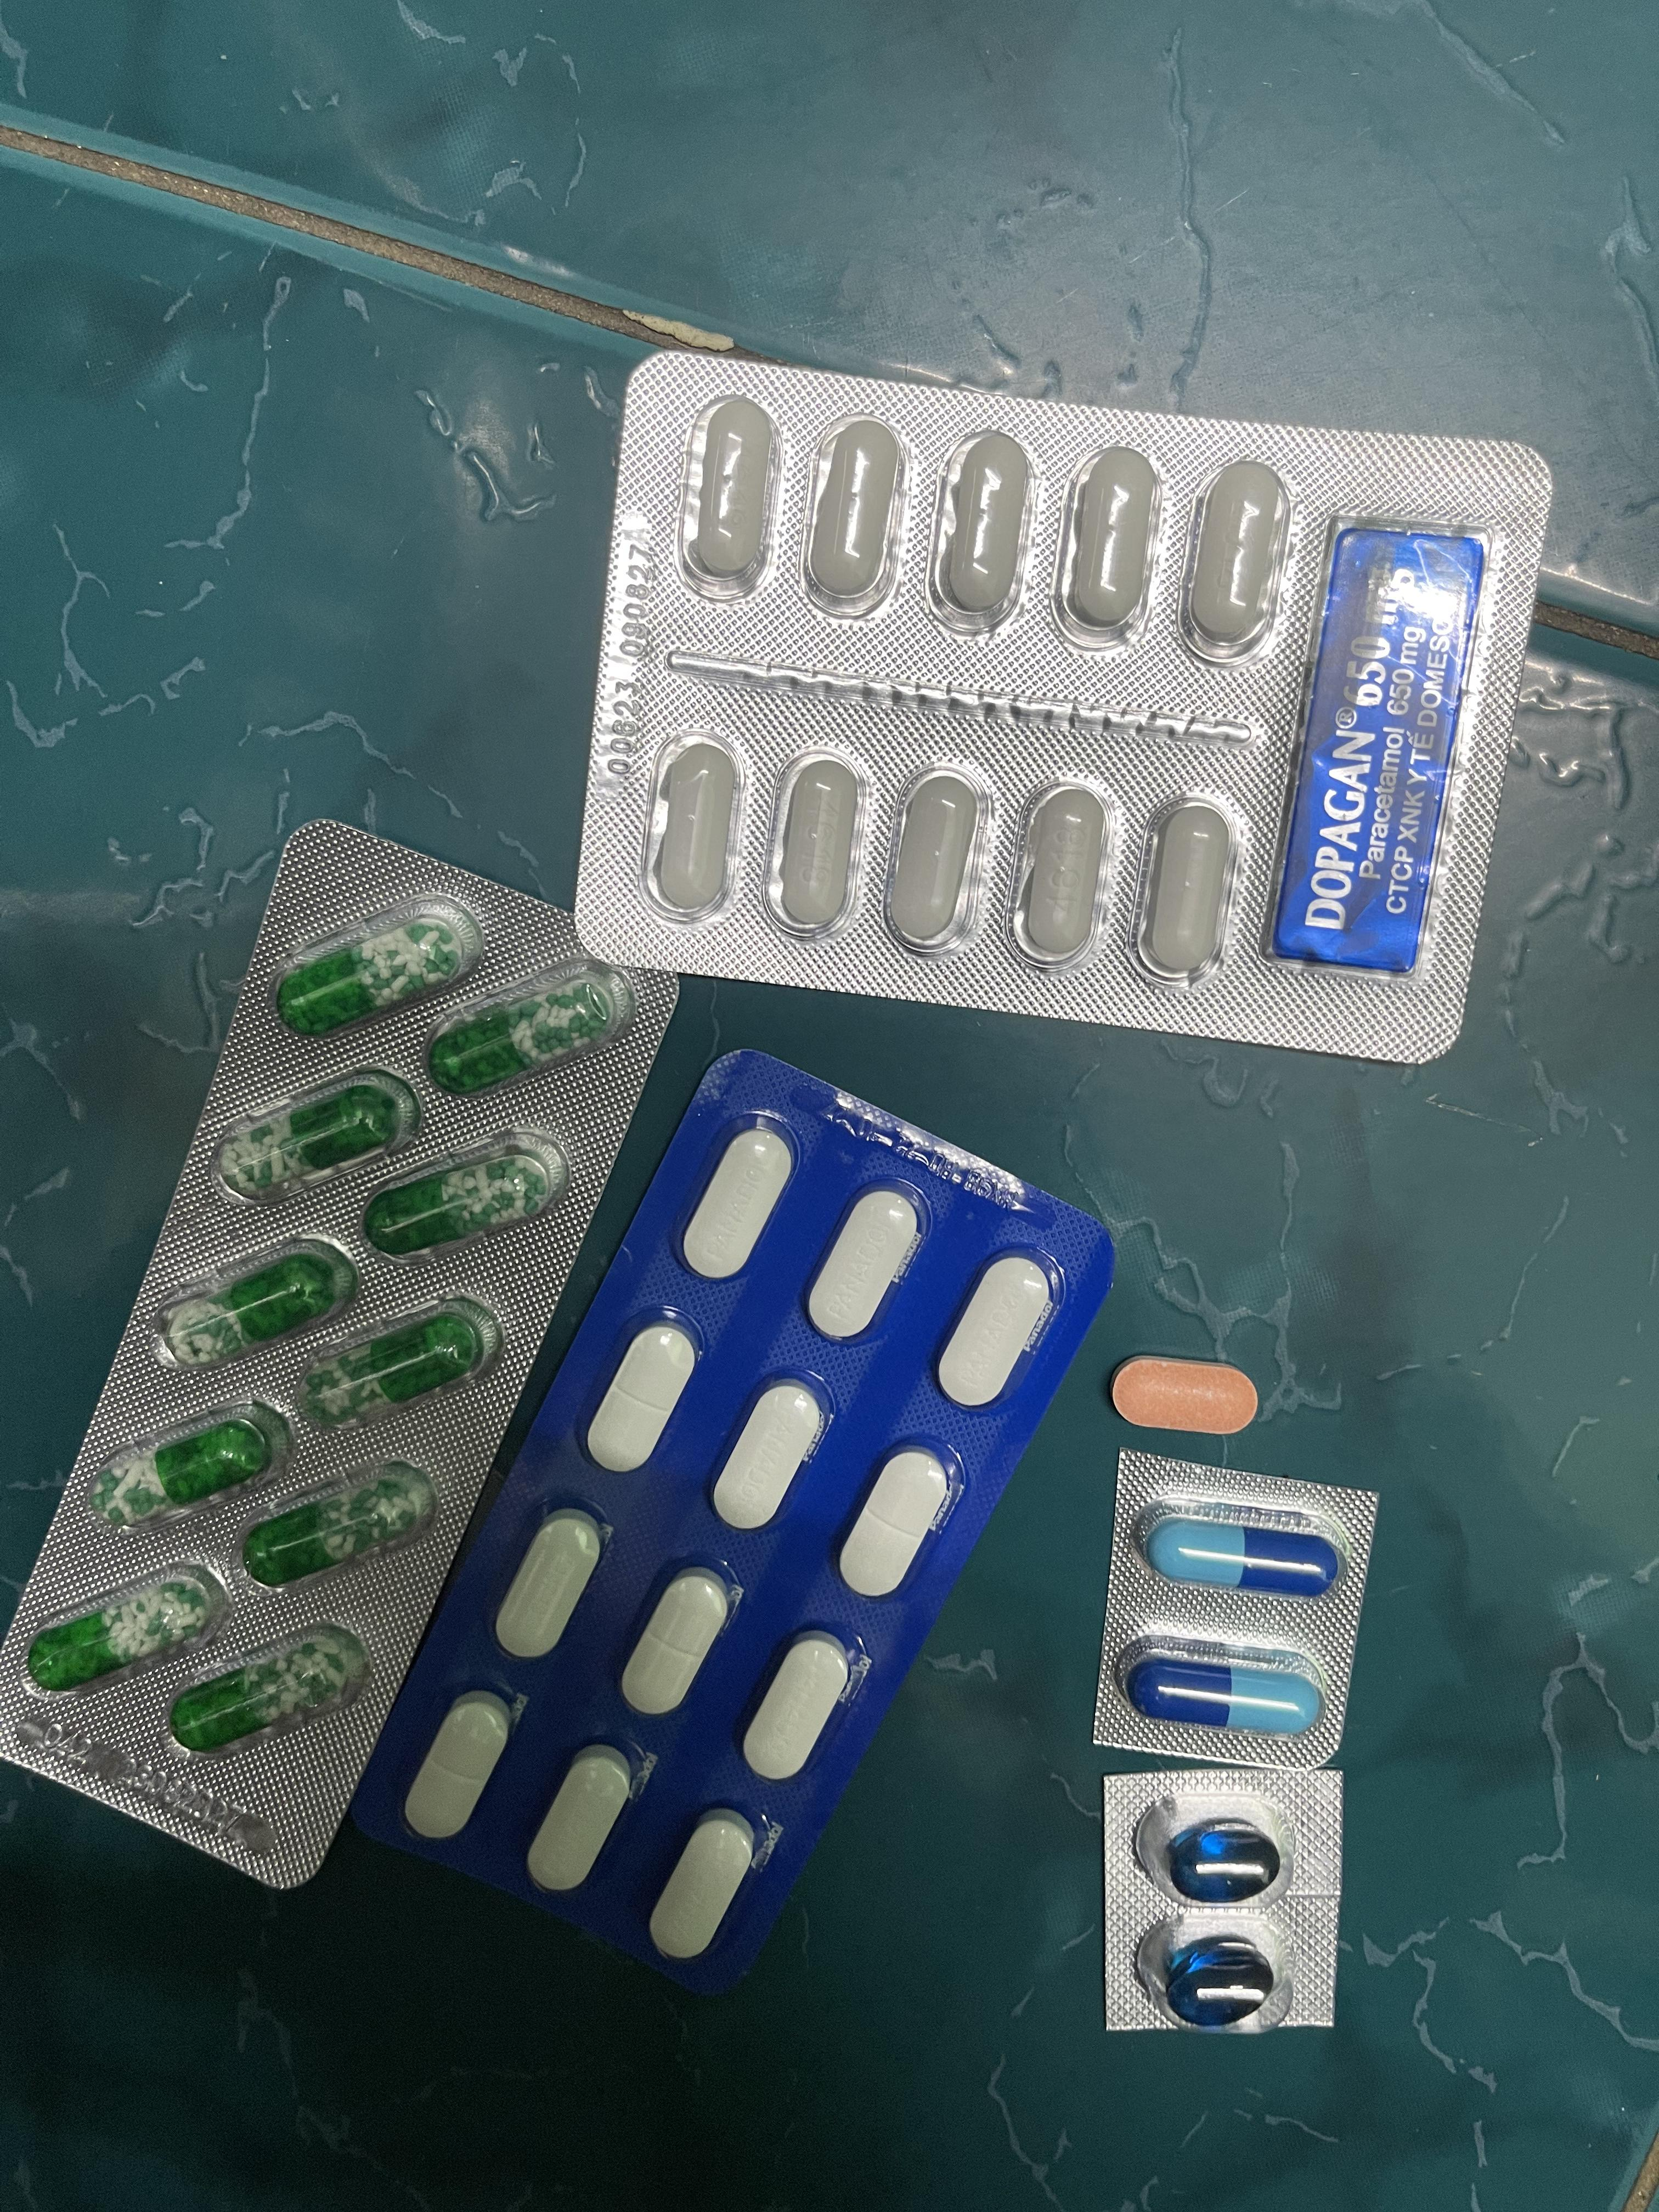Lincomyxin_500mg: (1162, 1937, 1279, 2026), (1166, 1820, 1284, 1904)
Loratadine_10mg: (1108, 1355, 1256, 1437)
Paracetamol_350mg: (939, 1256, 1060, 1414), (807, 1188, 925, 1345), (681, 1125, 798, 1282), (711, 1379, 828, 1534), (840, 1442, 957, 1597), (587, 1322, 701, 1479), (619, 1566, 734, 1719), (741, 1630, 856, 1784), (650, 1811, 762, 1961), (526, 1743, 638, 1893), (404, 1691, 512, 1843), (493, 1512, 603, 1660)
Paracetamol_500mg: (925, 428, 1035, 637), (1127, 791, 1241, 989), (880, 761, 993, 954), (1011, 779, 1119, 970), (762, 747, 866, 939), (1188, 462, 1290, 651), (1065, 448, 1159, 637), (810, 408, 901, 601), (690, 399, 775, 589), (653, 742, 737, 909)
Paracetamol_650mg: (169, 1623, 373, 1756), (235, 1463, 439, 1590), (274, 918, 474, 1035), (30, 1575, 227, 1689), (164, 1249, 356, 1366), (296, 1308, 488, 1425), (427, 972, 620, 1087), (91, 1413, 282, 1527), (221, 1090, 404, 1200), (366, 1153, 552, 1258)
pill: (1148, 1524, 1337, 1599), (1133, 1660, 1319, 1735)
